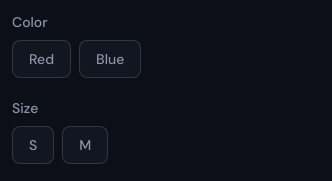
Scenario: SkuSelector › unavailable options are disabled
This screenshot has width=332, height=181.
Note: Select Blue first
What coordinates should you click on to do the following:
click the radio button labelled "Blue"
I would click on:
 (110, 59)
Its box is [79,40,141,78].
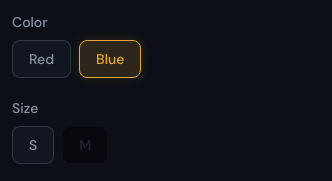
Result: the radio button labelled "M" is disabled at [62,126,108,164]
